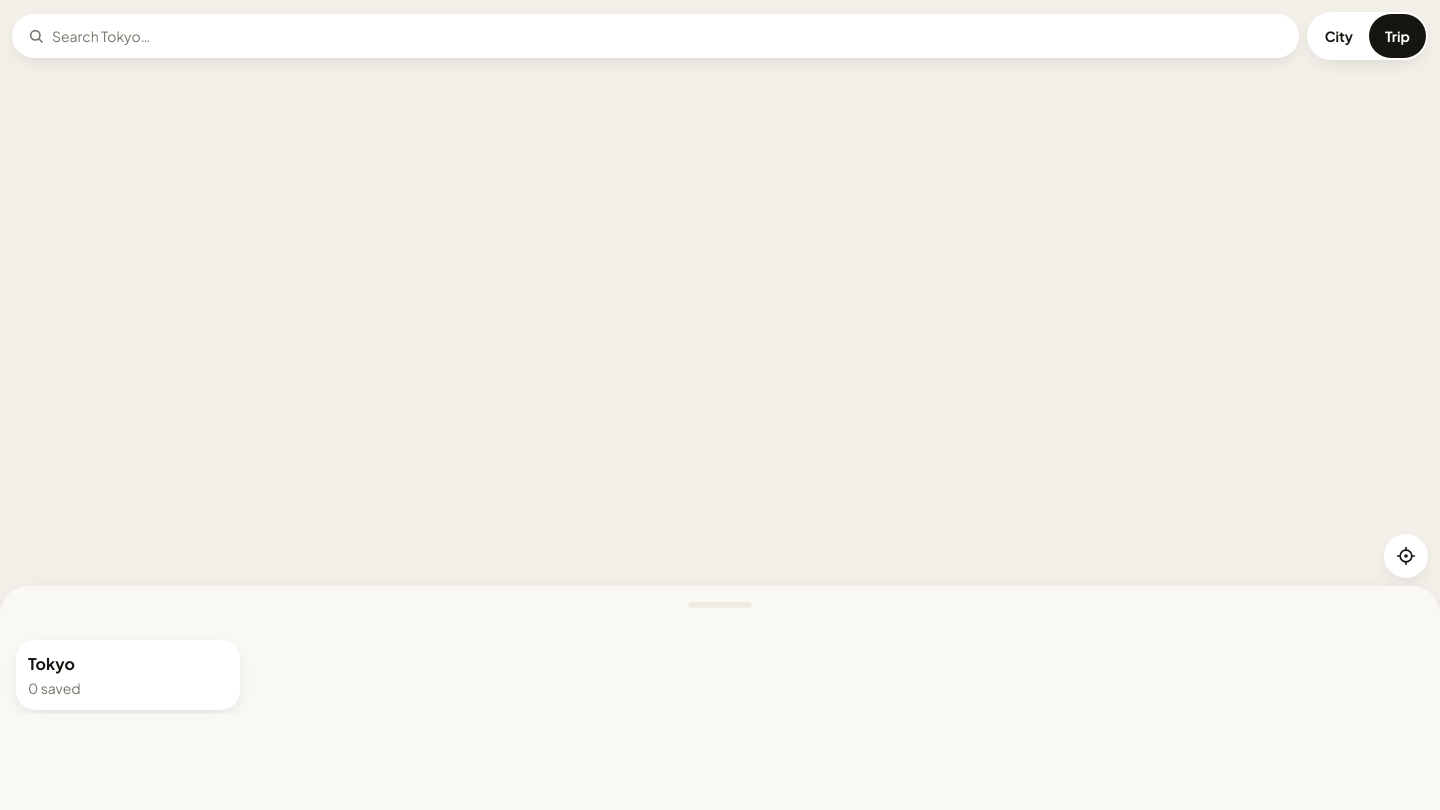
Test case: tapping a pin › expands that place’s card into both ways out — nothing more
Click the button "City": click(1339, 36) [1309,14,1369,58]
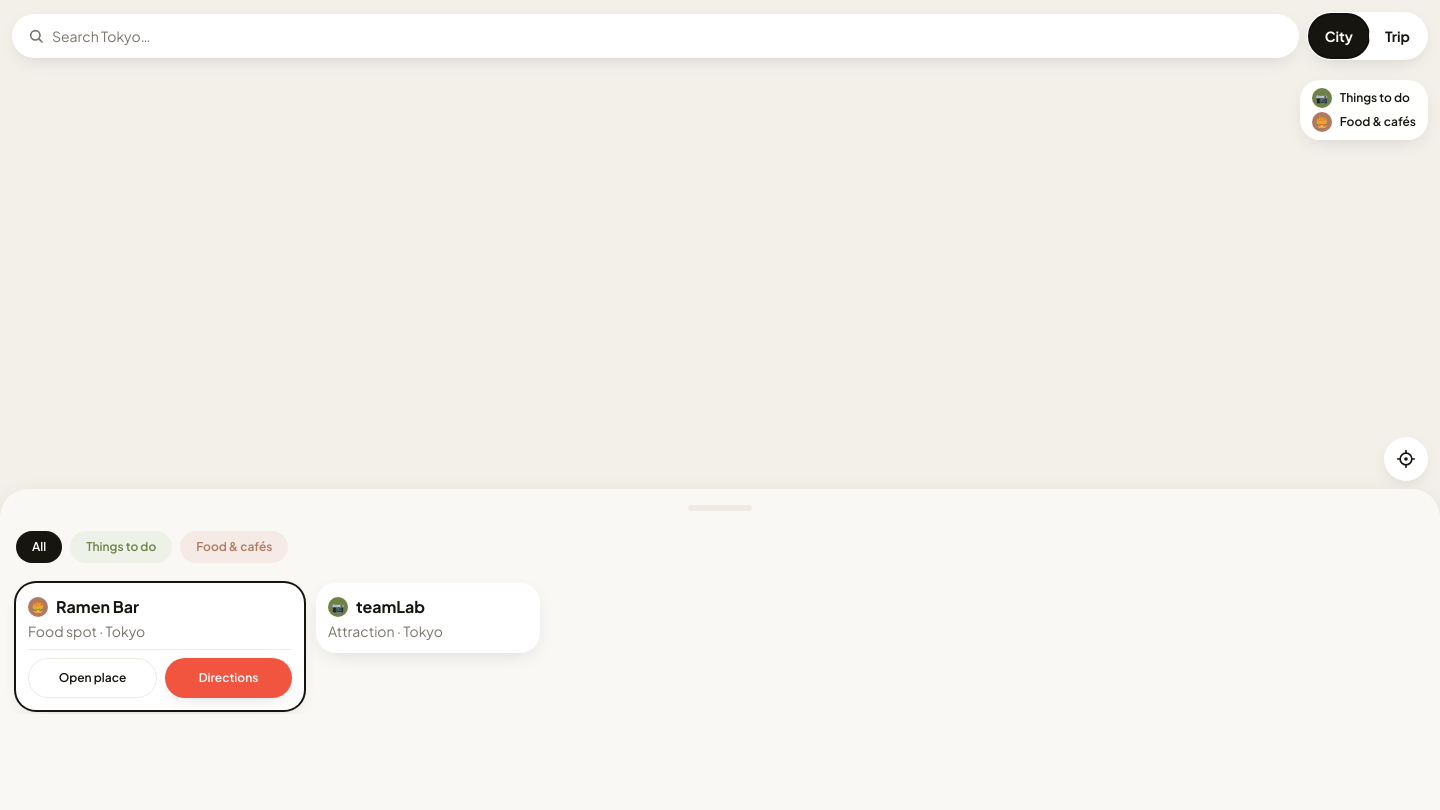
Expected: the link "Open place" is shown, [28,658,157,698]
